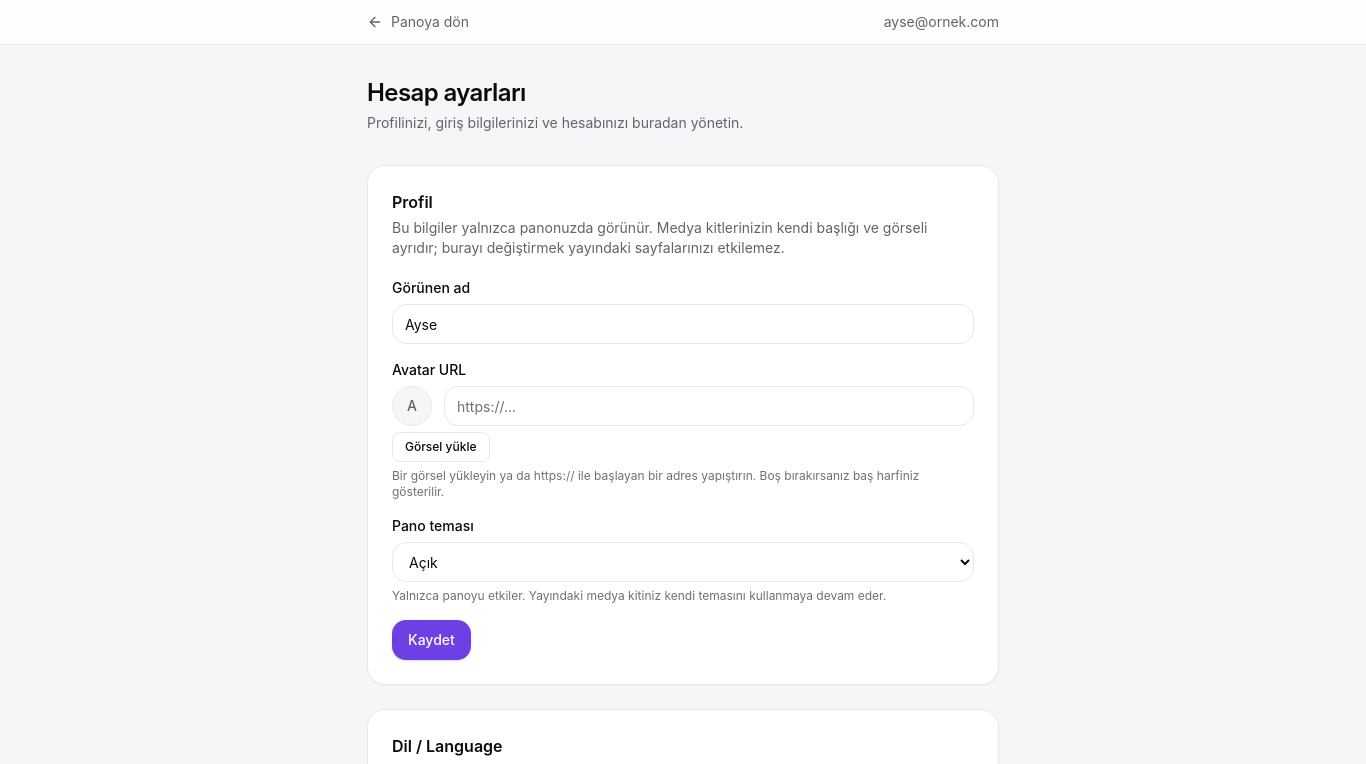
Test: SettingsPage › saves the profile and states that kits are unaffected
The width and height of the screenshot is (1366, 764).
Expected: the text "Medya kitlerinizin kendi başlığı ve" is shown, [392,219,928,256]
Replace the text in the field labelled "Görünen ad" with "Ayse Yilmaz": [683, 324] box [392,304,974,344]
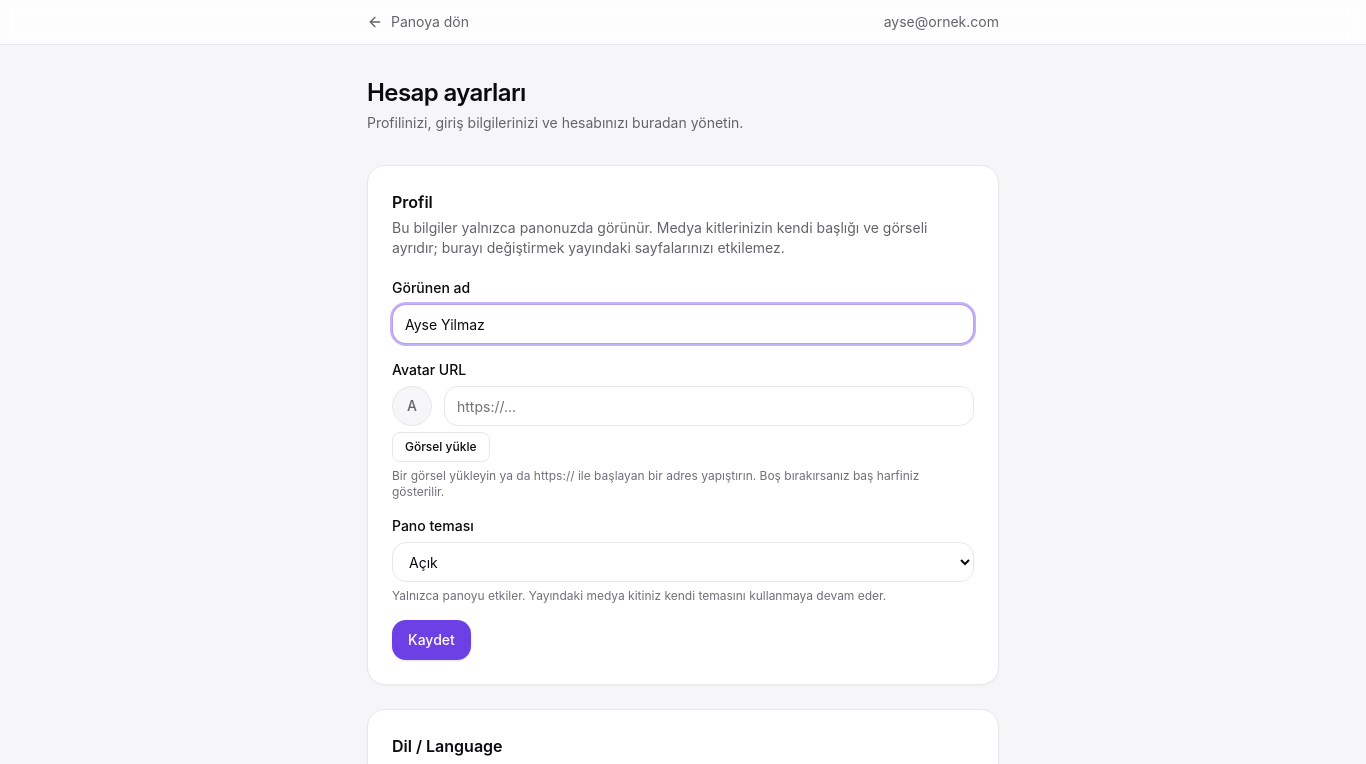
Click the button "Kaydet": [431, 640] box [392,620,471,660]
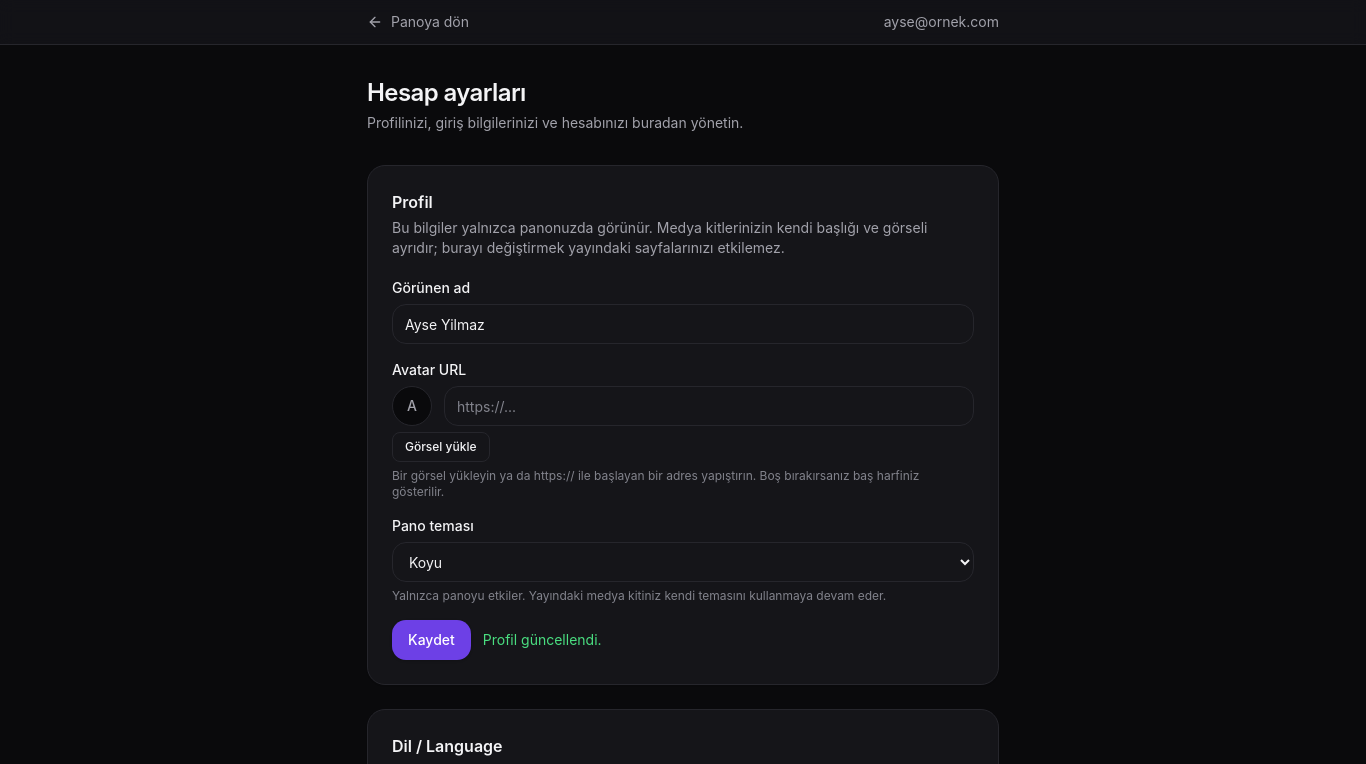
Expected: the text "Profil güncellendi." is shown, [483,630,602,650]
